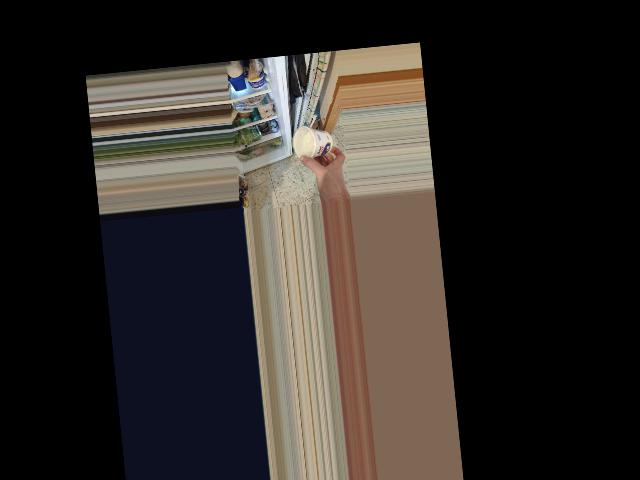cotage: (292, 124, 336, 164)
